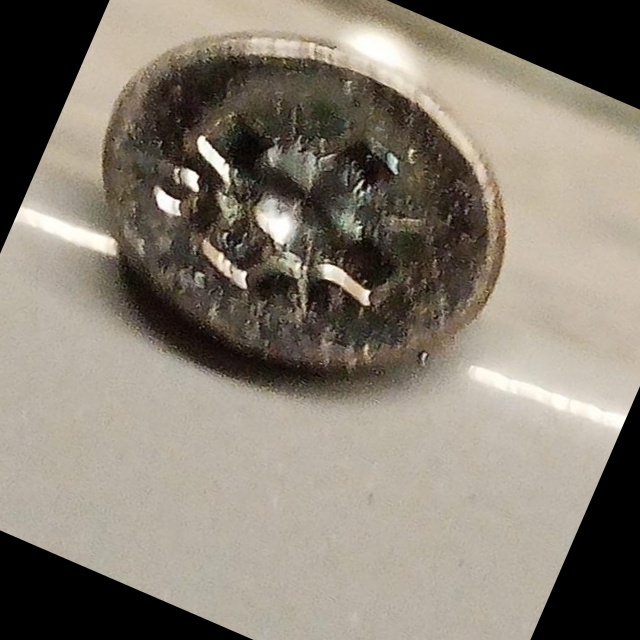pozidriv: (40, 0, 563, 439)
